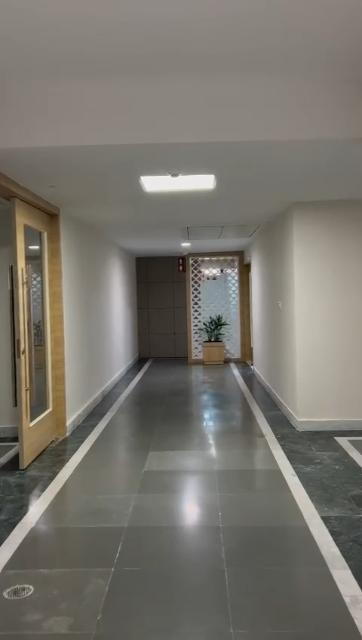door: (9, 192, 63, 458)
floor: (0, 359, 362, 639)
object: (198, 314, 230, 366)
wall: (251, 205, 362, 419), (65, 216, 136, 416)
